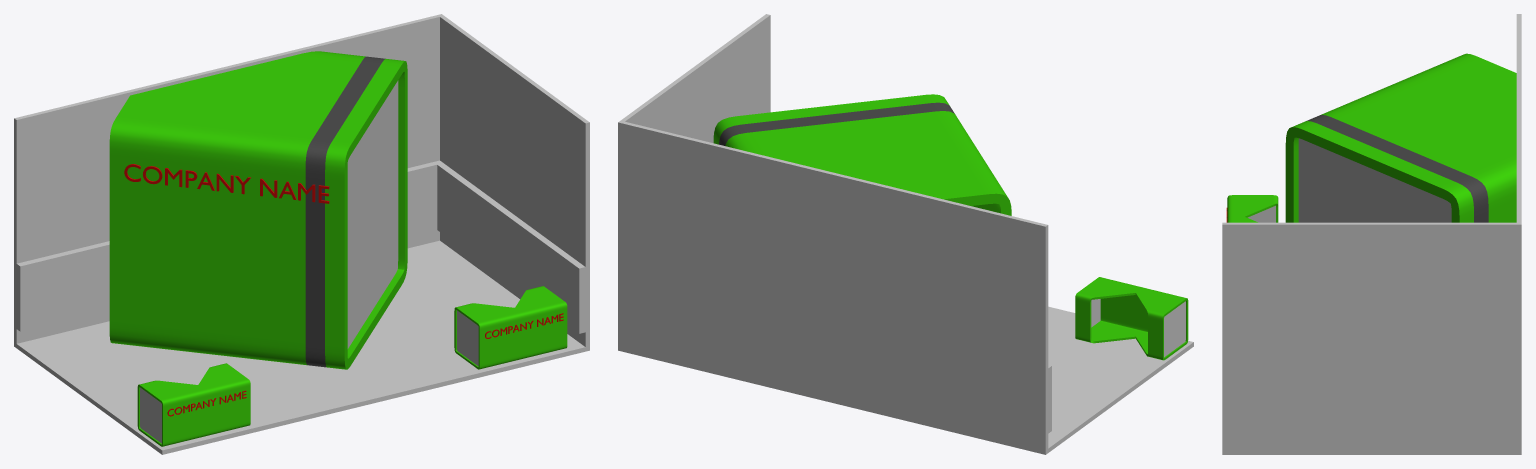
File: stand_10_customized.fbx
3 views of the same model, side by side, from view 1: azimuth 30°, elevation 25°; view 2: azimuth 150°, elevation 25°; view 3: azimuth 270°, elevation 25° (orthographic).
Visible parts, largest first — view 1: cube, wall, floor, table2, table1, logo_10; view 2: wall, cube, floor, table1; view 3: wall, cube, floor, table1.
Boxes of the visible parts, x1,y1,x2,y2 form: cube: (109,51,407,369); wall: (14,14,589,346); floor: (14,240,589,454); table2: (454,286,567,369); table1: (137,363,250,446); logo_10: (124,164,329,203); wall: (618,14,1051,450); cube: (713,94,1011,215); floor: (618,306,1193,454); table1: (1075,277,1188,360); wall: (1222,14,1521,450); cube: (1285,53,1516,222); floor: (1222,450,1521,454); table1: (1227,195,1278,222).
Size of the model in its own units: 10 by 5.1 by 6.
